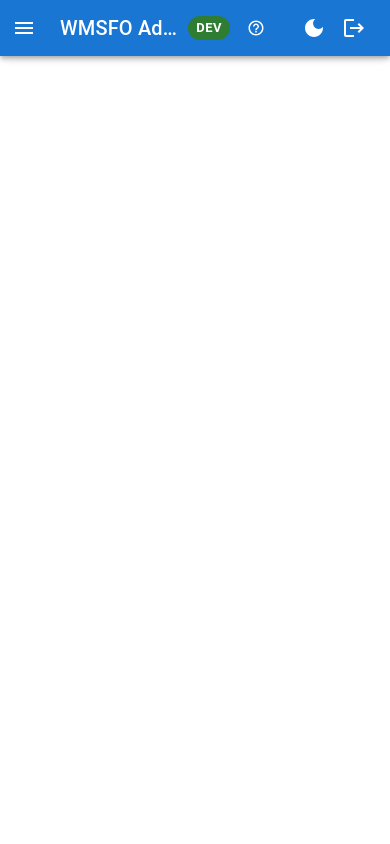
Scenario: MainLayout on compact › shows the menu button, hides the email, and reveals the close button and scrolling list when opened
What coordinates should you click on to do the following:
click the button named "open navigation"
I would click on:
 (24, 28)
Its box is [4, 8, 44, 48].
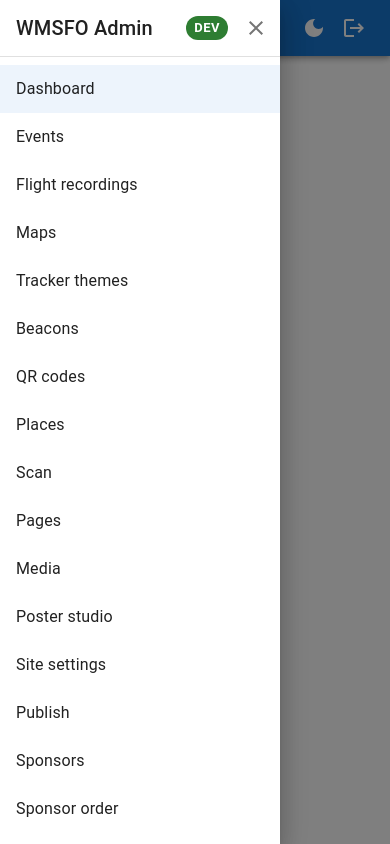
Expected: the button named "close navigation" is shown, [236, 8, 276, 48]
Expected: the list is shown
